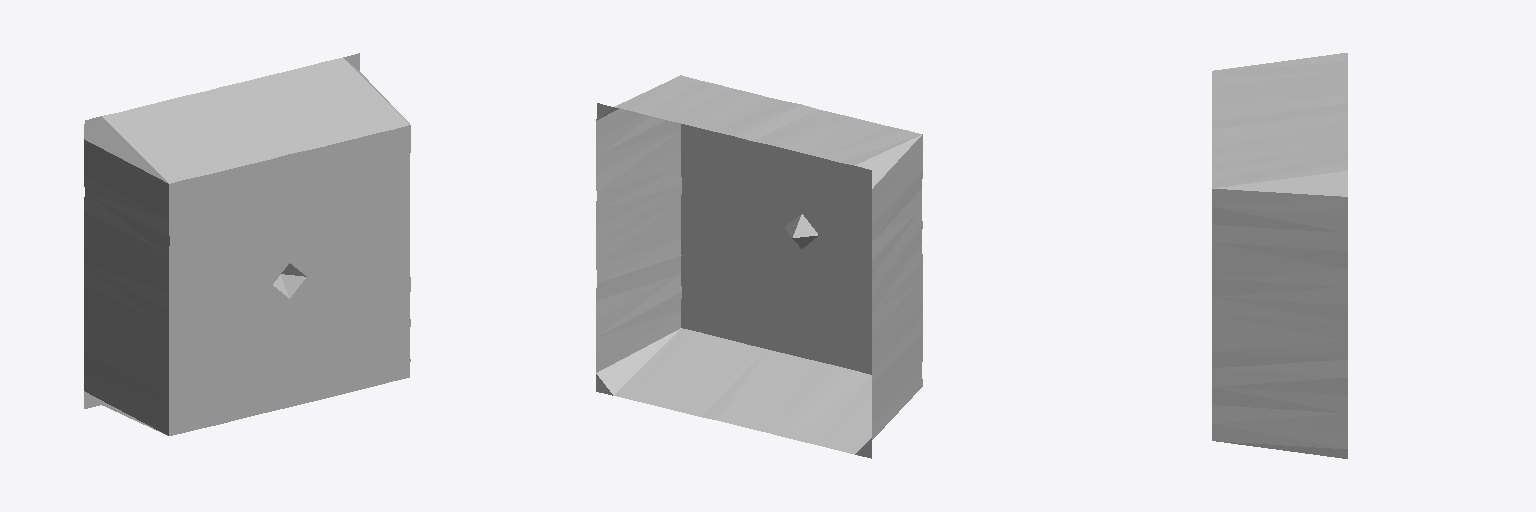
File: floor.obj
The picture shows the model from 3 angles: view 1: azimuth 30°, elevation 25°; view 2: azimuth 150°, elevation 25°; view 3: azimuth 270°, elevation 25°; orthographic projection.
Visible parts, largest first — view 1: Plane; view 2: Plane; view 3: Plane.
Part boxes in pixels (left/top/right/bottom): Plane: left=84, top=53, right=410, bottom=435; Plane: left=596, top=75, right=922, bottom=458; Plane: left=1212, top=53, right=1347, bottom=458.
Size of the model in its own units: 20.26 by 20.26 by 8.59.